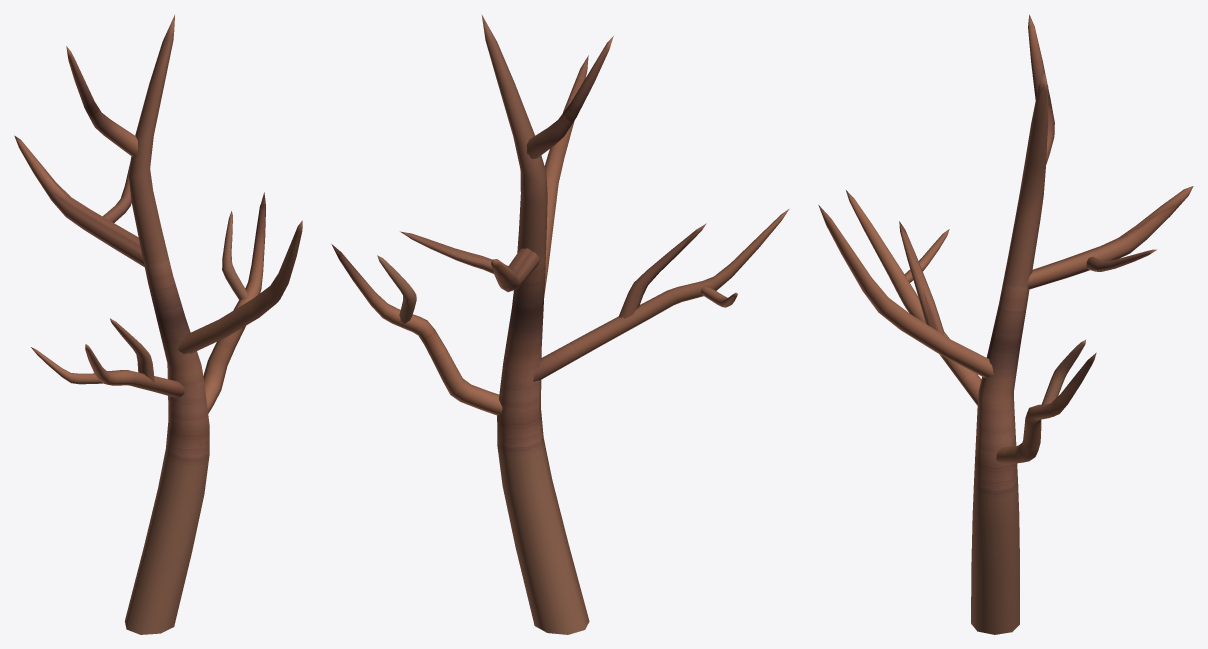
File: dead_usn_deadtree_5.glb
3 renders of one model, left to right at view 1: azimuth 30°, elevation 25°; view 2: azimuth 150°, elevation 25°; view 3: azimuth 270°, elevation 25°, orthographic. The views are drawn at different scales.
Visible parts, largest first — view 1: DeadTree_5; view 2: DeadTree_5; view 3: DeadTree_5.
Part boxes in pixels (bbox=[...]): DeadTree_5: bbox=[14, 15, 302, 634]; DeadTree_5: bbox=[331, 14, 788, 634]; DeadTree_5: bbox=[818, 14, 1193, 634].
Bounding box in the file's own units: 3.32 × 6 × 3.53.
1 material, 1 textured.
